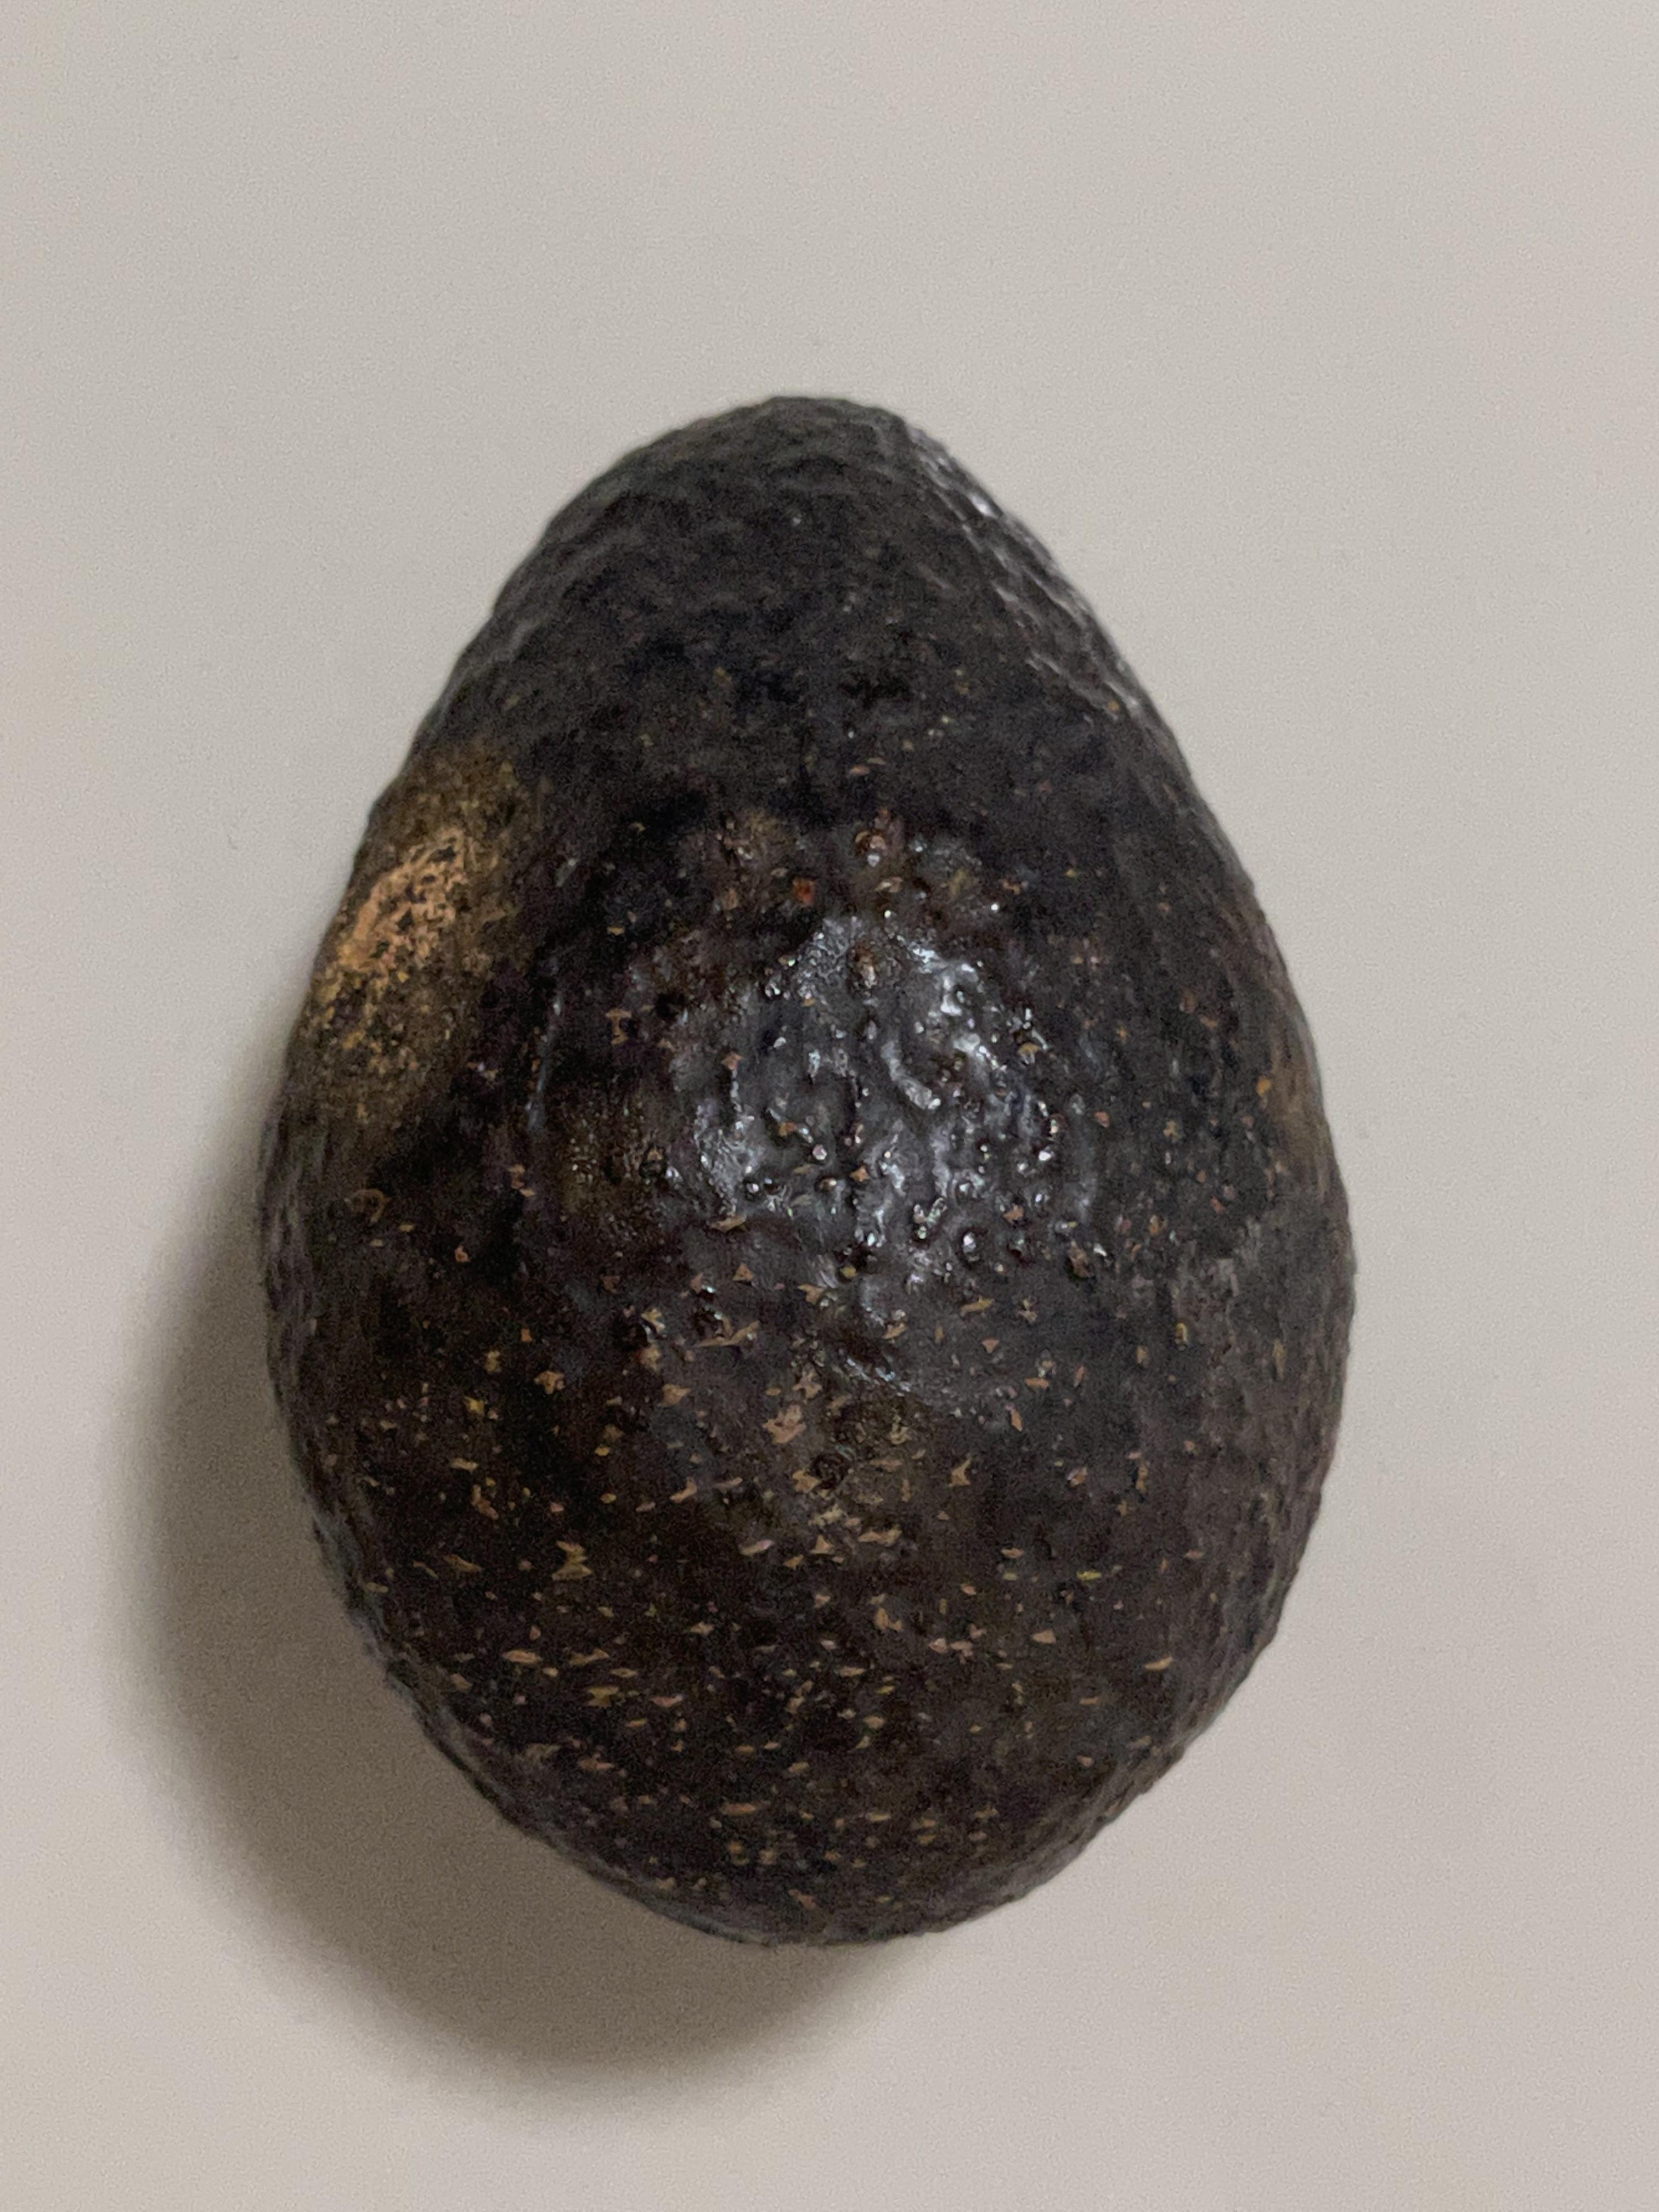Level3: (225, 357, 1380, 1977)
